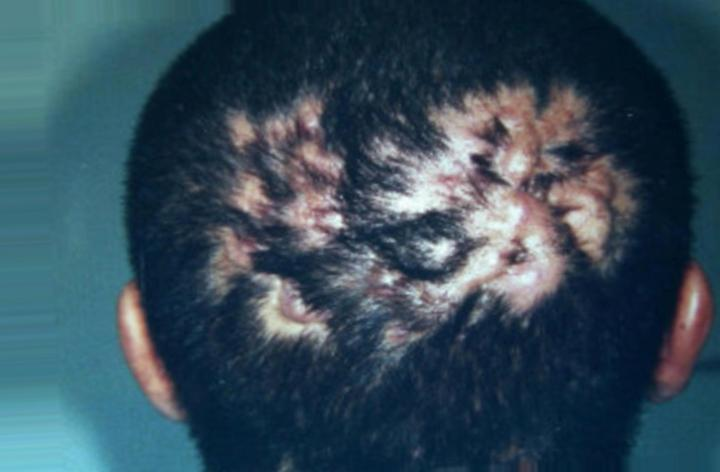Folliculitis: (208, 90, 628, 357)
